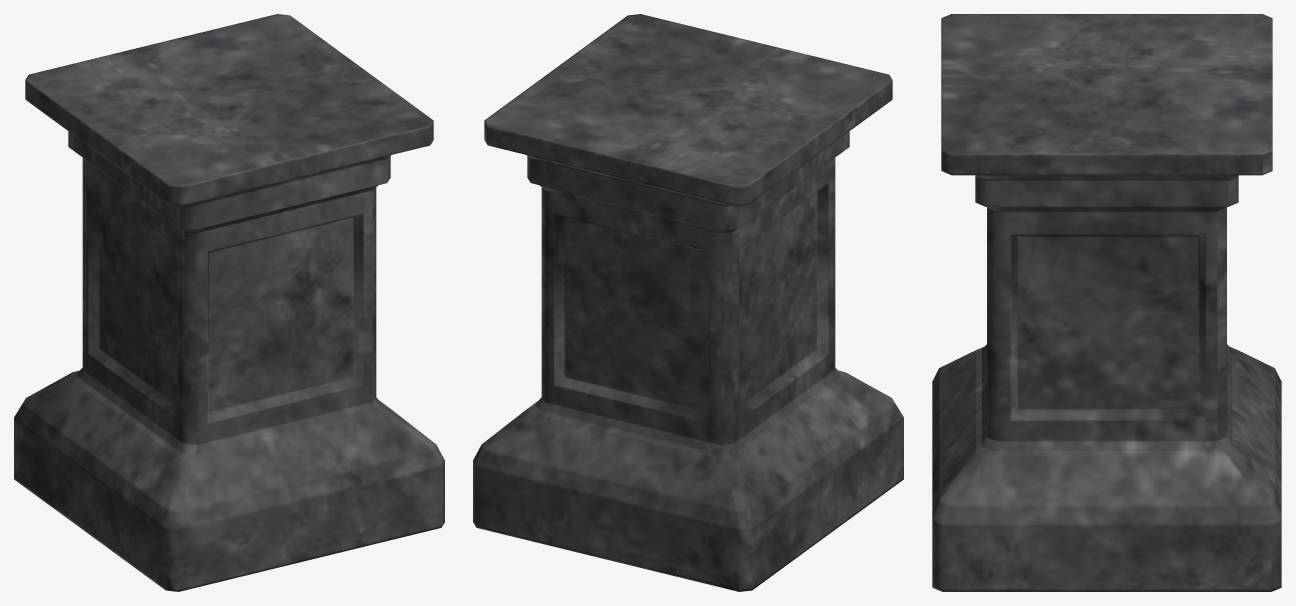
The model's file is Pedestal.glb.
The picture shows the model from 3 angles, left to right: view 1: azimuth 30°, elevation 25°; view 2: azimuth 150°, elevation 25°; view 3: azimuth 270°, elevation 25°; orthographic projection. The views are drawn at different scales.
Visible parts, largest first — view 1: pCube1; view 2: pCube1; view 3: pCube1.
Boxes of the visible parts, <box> form: pCube1: <box>14,14,444,591</box>; pCube1: <box>473,14,903,591</box>; pCube1: <box>932,14,1281,591</box>.
Bounding box in the file's own units: 4.24 × 5.81 × 4.24.
Materials: 1 (1 with a texture image).
